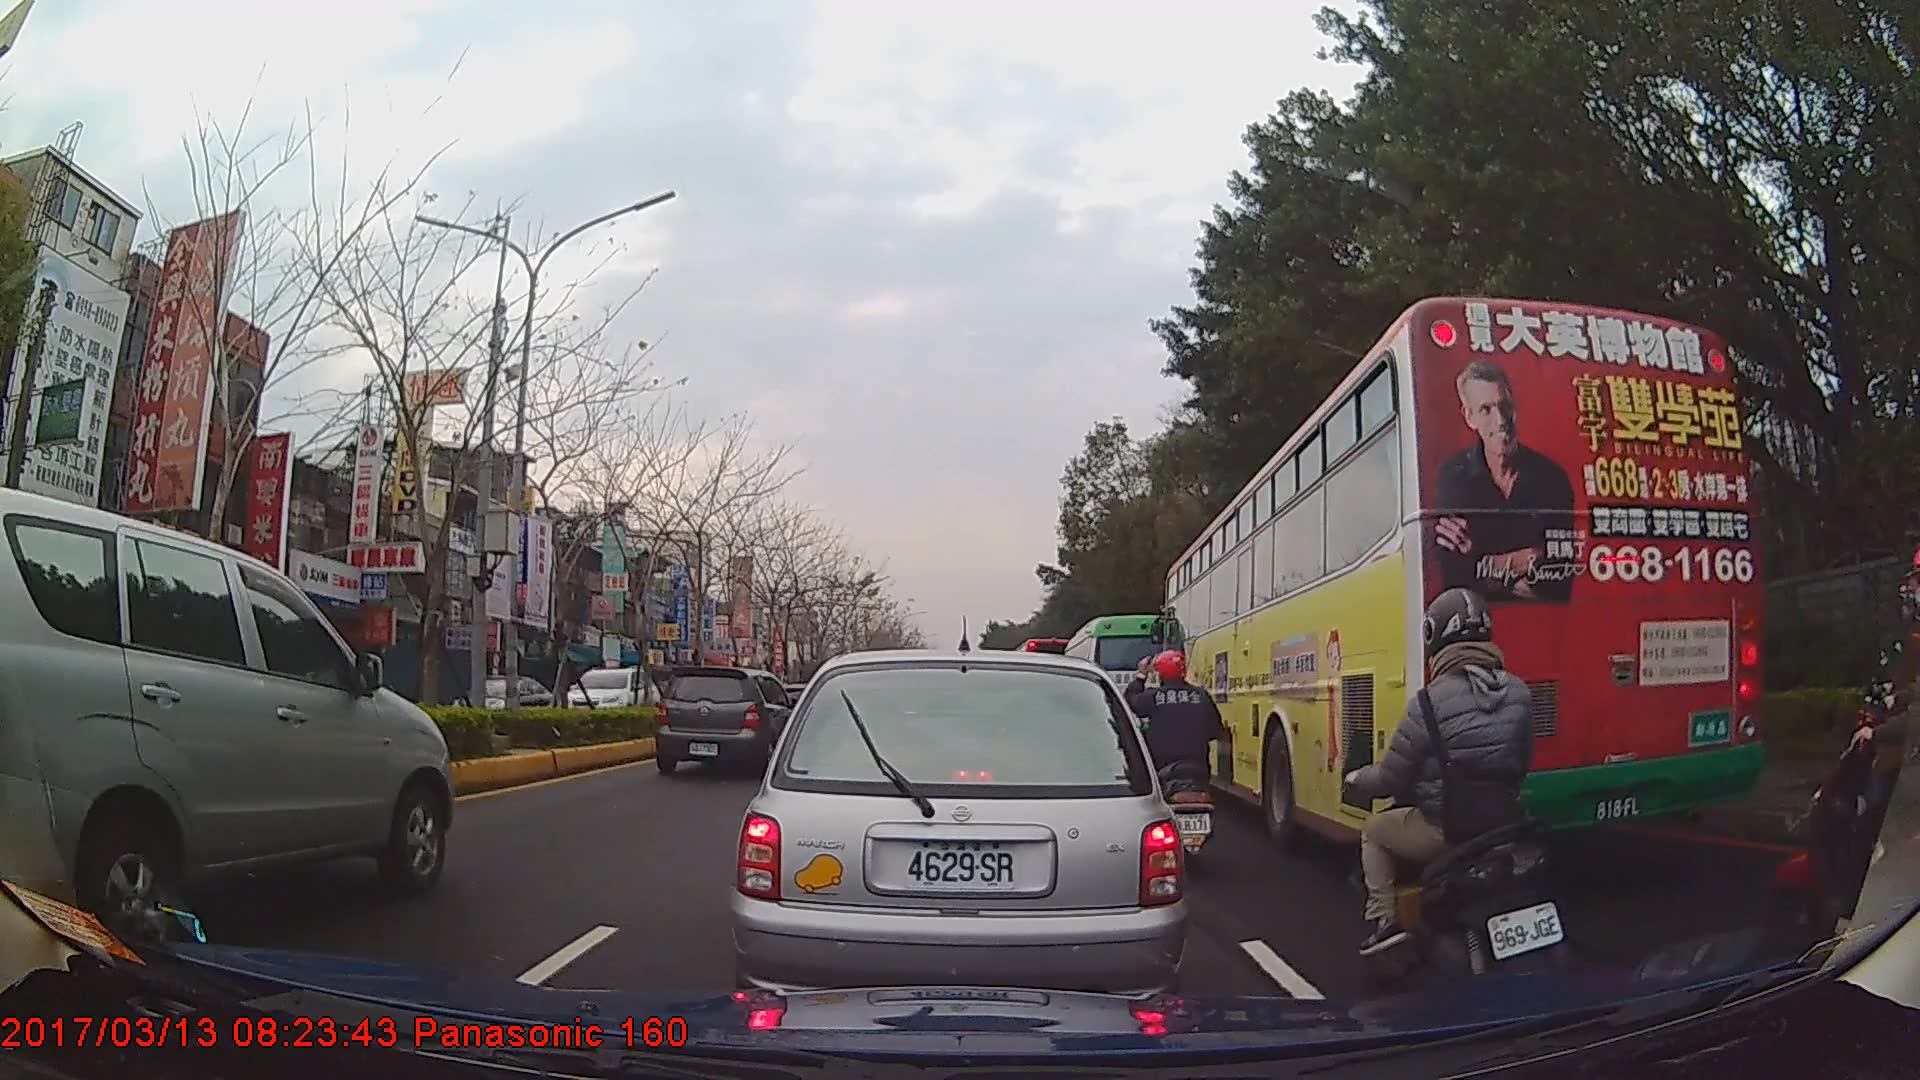rider: (1346, 582, 1564, 1016), (1756, 547, 1919, 966), (1822, 574, 1920, 885), (1122, 649, 1225, 867)
vehicle: (1160, 293, 1765, 863), (2, 481, 455, 962), (731, 647, 1187, 1021), (1058, 613, 1189, 765), (654, 668, 796, 779), (557, 664, 658, 730), (450, 671, 549, 736)
